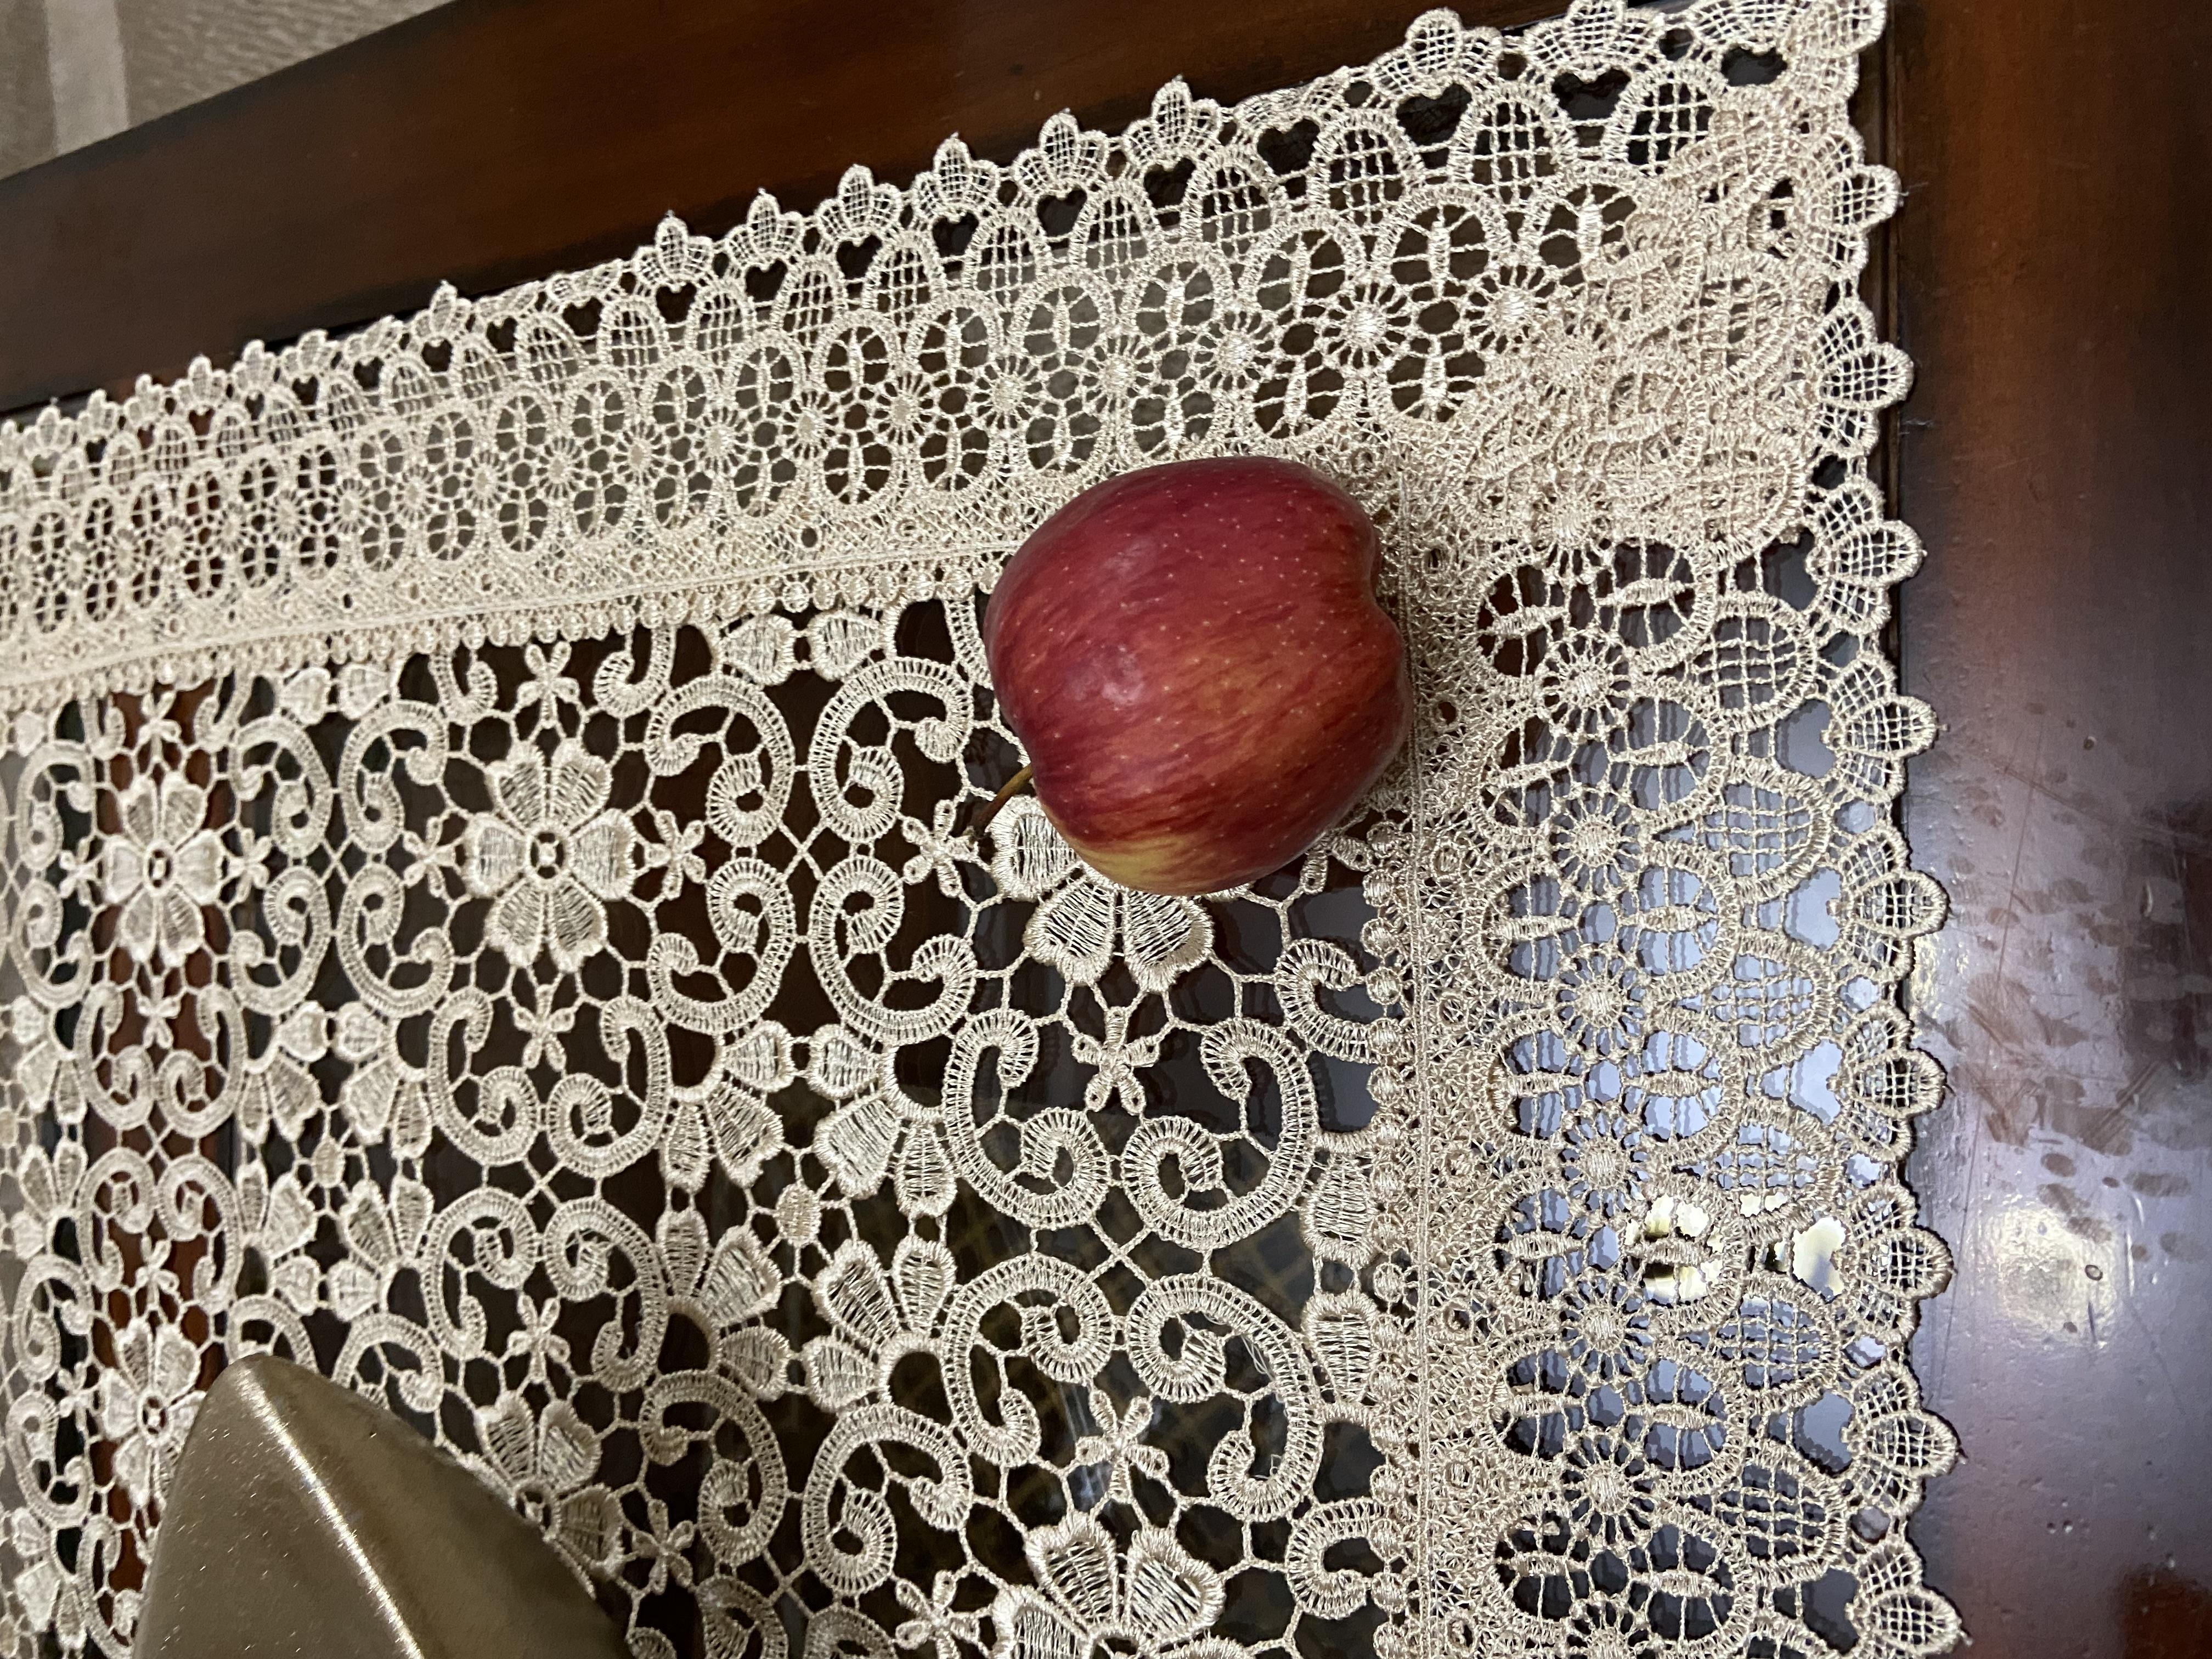Apple: (1012, 708, 1625, 1070)
